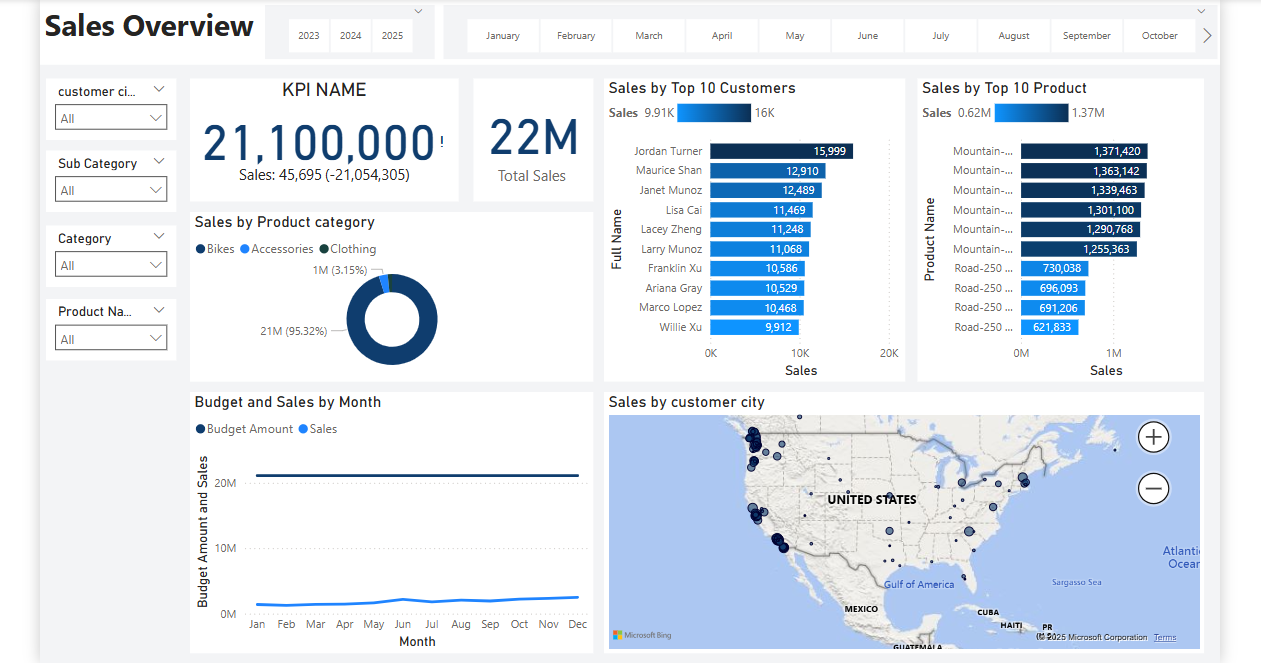

What the dashboard file says about the page in this screenshot:
{"tool":"powerbi","page":{"name":"Sales Overview ","canvas":[1280,720],"ordinal":0},"visuals":[{"type":"textbox","box":[0,0,1280.1,71.6],"z":0},{"type":"slicer","fields":{"Values":["Dim_Customer.customer city"]},"box":[6.5,86.2,141.5,66.7],"z":1000},{"type":"slicer","fields":{"Values":["DIM_Product.Sub Category"]},"box":[6.5,164.3,141.5,66.7],"z":2000},{"type":"slicer","fields":{"Values":["DIM_Product.Product category"]},"box":[6.5,245.6,141.5,66.7],"z":3000},{"type":"slicer","fields":{"Values":["DIM_Product.Product Name"]},"box":[6.5,325.3,141.5,66.7],"z":4000},{"type":"slicer","fields":{"Values":["Dim_calender.Year"]},"box":[244,6.5,183.8,58.6],"z":5000},{"type":"slicer","fields":{"Values":["Dim_calender.month"]},"box":[437.5,6.5,839.3,58.6],"z":6000},{"type":"kpi","title":"KPI NAME","fields":{"TrendLine":["Dim_calender.Year"],"Indicator":["Key Measures.Budget Amount"],"Goal":["Key Measures.Sales"]},"box":[162.7,86.2,291.2,133.4],"z":7000},{"type":"donutChart","fields":{"Y":["Key Measures.Sales"],"Category":["DIM_Product.Product category"]},"box":[162.7,231,437.5,183.8],"z":8000},{"type":"lineChart","title":"Budget and Sales by Month","fields":{"Category":["Dim_calender.Monthshort"],"Y":["Key Measures.Budget Amount","Key Measures.Sales"]},"box":[162.7,426.2,437.5,283],"z":9000},{"type":"barChart","title":"Sales by Top 10 Customers ","fields":{"Y":["Key Measures.Sales"],"Category":["Dim_Customer.Full Name"]},"box":[611.6,86.2,326.9,328.6],"z":10000},{"type":"barChart","title":"Sales by Top 10 Product","fields":{"Y":["Key Measures.Sales"],"Category":["DIM_Product.Product Name"]},"box":[951.5,86.2,310.7,328.6],"z":11000},{"type":"map","fields":{"Category":["Dim_Customer.customer city"],"Size":["Key Measures.Sales"]},"box":[611.9,425.4,650.8,283.1],"z":12000},{"type":"card","fields":{"Values":["Key Measures.Sales"]},"box":[470.1,86.2,130.1,133.4],"z":13000}]}

Visuals, with their boxes on the page's 1280x720 design canvas (x1, y1, x2, y2). These are canvas units, not pixel positions in the 1261x663 screenshot, which may show the page scaled, cropped or inside an application window:
textbox: [0,0,1280,72]
slicer - Dim_Customer.customer city: [6,86,148,153]
slicer - DIM_Product.Sub Category: [6,164,148,231]
slicer - DIM_Product.Product category: [6,246,148,312]
slicer - DIM_Product.Product Name: [6,325,148,392]
slicer - Dim_calender.Year: [244,6,428,65]
slicer - Dim_calender.month: [438,6,1277,65]
"KPI NAME" kpi: [163,86,454,220]
donutChart - Key Measures.Sales x DIM_Product.Product category: [163,231,600,415]
"Budget and Sales by Month" lineChart: [163,426,600,709]
"Sales by Top 10 Customers " barChart: [612,86,938,415]
"Sales by Top 10 Product" barChart: [952,86,1262,415]
map - Dim_Customer.customer city x Key Measures.Sales: [612,425,1263,708]
card - Key Measures.Sales: [470,86,600,220]
